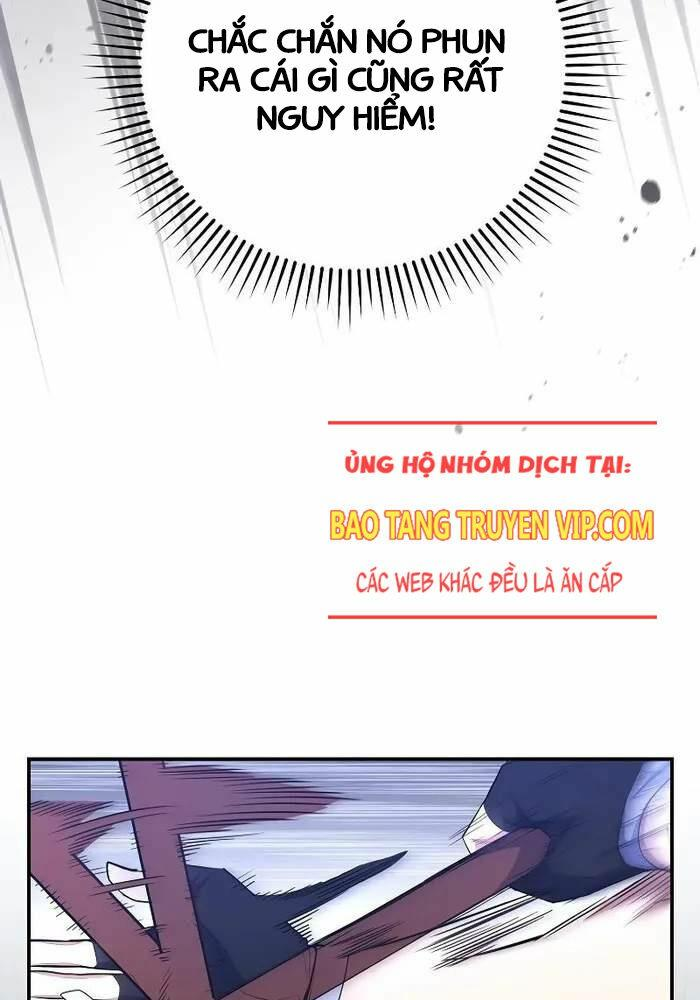quangcao: (326, 421, 661, 621)
